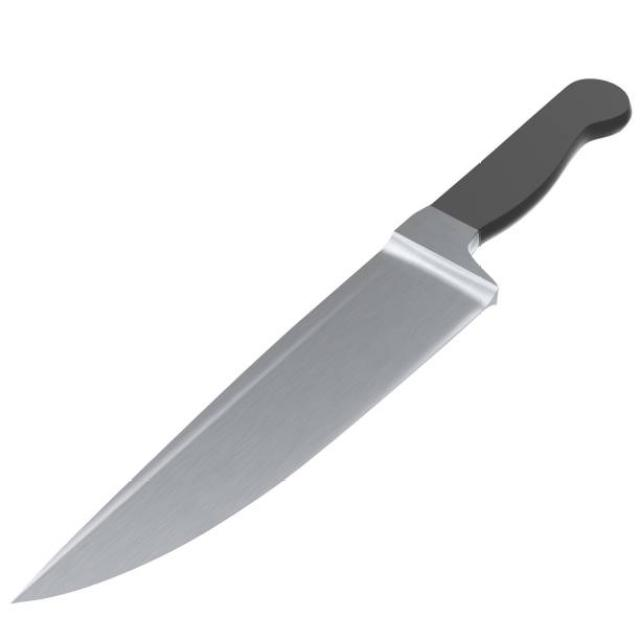knife: (12, 69, 633, 613)
